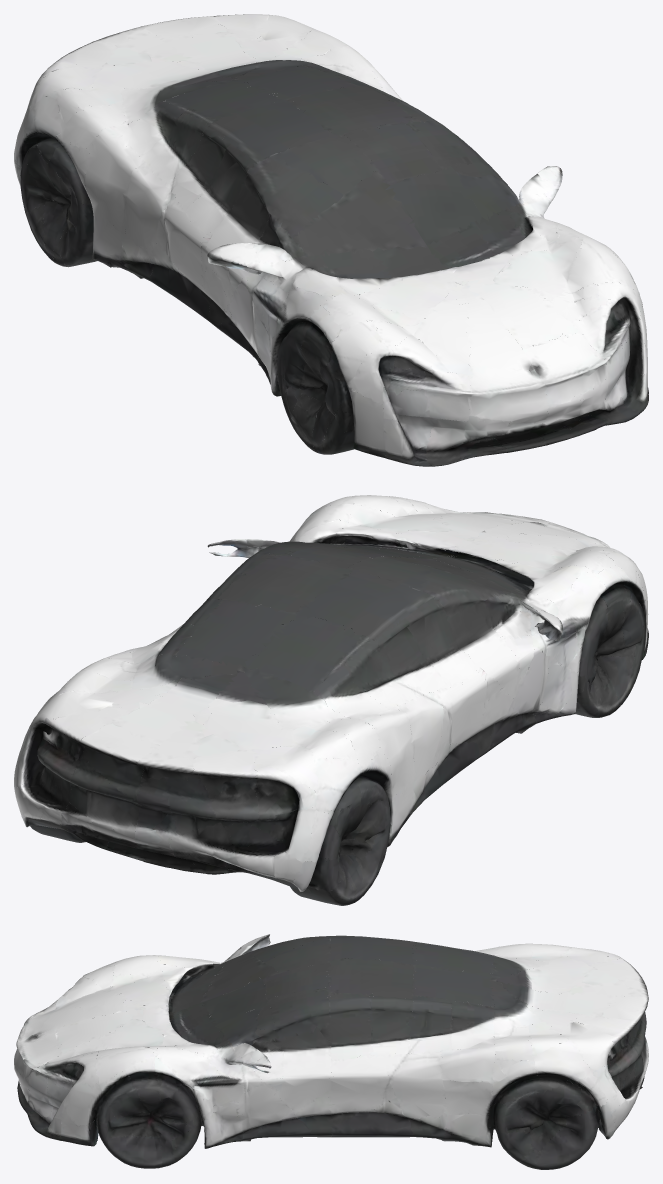
Rendered from dk-meshy-future-ev-lite.glb.
The picture shows the model from 3 angles, top to bottom: view 1: azimuth 30°, elevation 25°; view 2: azimuth 150°, elevation 25°; view 3: azimuth 270°, elevation 25°; orthographic projection. The views are drawn at different scales.
Visible parts, largest first — view 1: Mesh_0; view 2: Mesh_0; view 3: Mesh_0.
Boxes of the visible parts, box(x1,y1,x2,y2) form: Mesh_0: box(14, 14, 648, 466); Mesh_0: box(14, 495, 648, 905); Mesh_0: box(14, 934, 648, 1169).
Size of the model in its own units: 0.9955 by 0.5288 by 2.
1 material, 1 textured.
